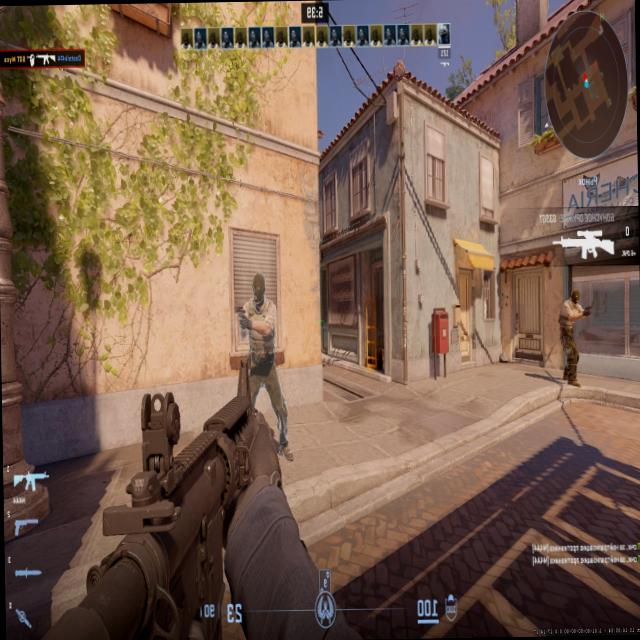T: (560, 291, 577, 378)
T_heat: (569, 298, 576, 314)
